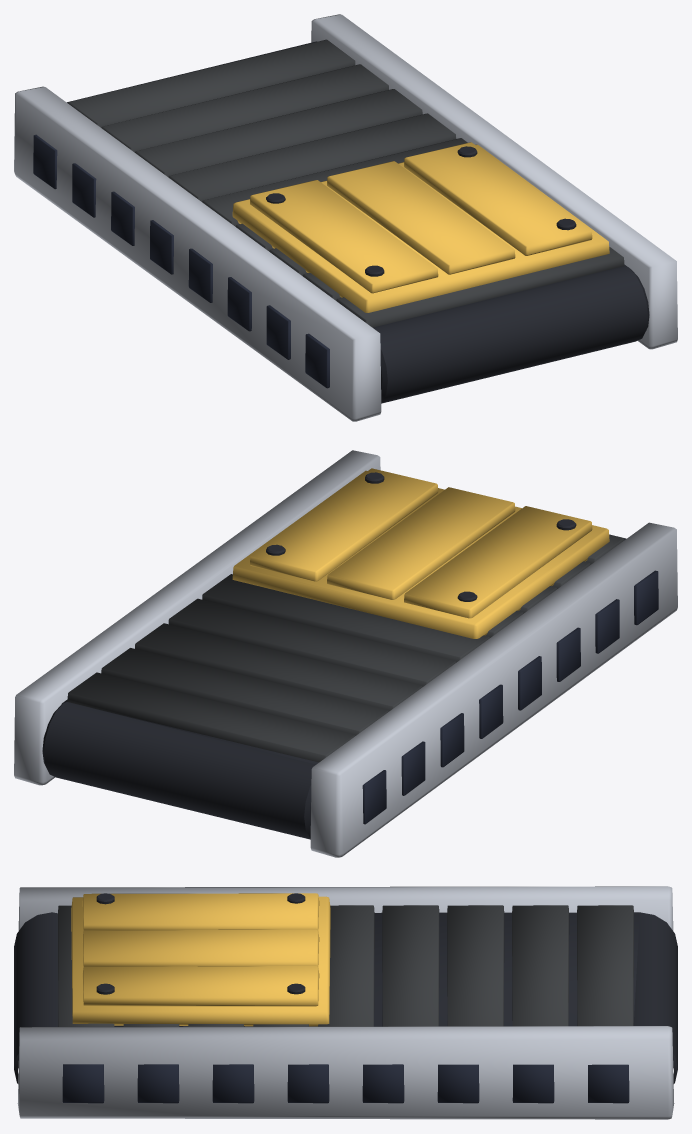
The model's file is 47_conveyor_gold_plate.glb.
3 views of the same model, one above another, from view 1: azimuth 30°, elevation 25°; view 2: azimuth 150°, elevation 25°; view 3: azimuth 270°, elevation 25° (orthographic). The views are drawn at different scales.
Visible parts, largest first — view 1: SideRail_L, EndRoller_1, SideRail_R, GoldRib_1, GoldRib_2, GoldRib_0, GoldPlateBase, BeltSlat_3, BeltSlat_2, BeltSlat_1, BeltSlat_0, BeltSlat_8 (+9 smaller); view 2: SideRail_L, EndRoller_-1, SideRail_R, BeltSlat_0, GoldRib_1, GoldRib_2, GoldRib_0, GoldPlateBase, BeltSlat_3, BeltSlat_2, BeltSlat_1, BeltSlat_4 (+8 smaller); view 3: SideRail_R, SideRail_L, GoldRib_2, GoldRib_1, GoldRib_0, GoldPlateBase, BeltSlat_3, BeltSlat_2, BeltSlat_1, BeltSlat_0, BeltSlat_4, EndRoller_1 (+11 smaller).
Boxes of the visible parts, x1,y1,x2,y2 form: SideRail_L: [14, 86, 381, 421]; EndRoller_1: [373, 265, 649, 403]; SideRail_R: [311, 14, 677, 349]; GoldRib_1: [327, 161, 515, 274]; GoldRib_2: [404, 142, 592, 255]; GoldRib_0: [250, 180, 438, 293]; GoldPlateBase: [232, 144, 609, 312]; BeltSlat_3: [168, 113, 456, 201]; BeltSlat_2: [135, 89, 422, 177]; BeltSlat_1: [101, 64, 388, 152]; BeltSlat_0: [68, 39, 355, 127]; BeltSlat_8: [336, 246, 624, 327]; SideRail_L: [310, 522, 677, 857]; EndRoller_-1: [42, 702, 315, 839]; SideRail_R: [14, 450, 380, 785]; BeltSlat_0: [67, 672, 355, 762]; GoldRib_1: [327, 487, 515, 599]; GoldRib_2: [250, 468, 438, 581]; GoldRib_0: [404, 506, 592, 618]; GoldPlateBase: [232, 470, 609, 638]; BeltSlat_3: [168, 598, 455, 686]; BeltSlat_2: [135, 623, 422, 711]; BeltSlat_1: [101, 648, 388, 735]; BeltSlat_4: [202, 574, 489, 662]; SideRail_R: [17, 1026, 674, 1119]; SideRail_L: [18, 886, 673, 930]; GoldRib_2: [82, 966, 319, 1006]; GoldRib_1: [82, 929, 319, 966]; GoldRib_0: [82, 893, 319, 929]; GoldPlateBase: [71, 896, 330, 1026]; BeltSlat_3: [382, 905, 439, 1026]; BeltSlat_2: [447, 905, 504, 1026]; BeltSlat_1: [512, 905, 569, 1026]; BeltSlat_0: [577, 905, 633, 1026]; BeltSlat_4: [318, 905, 374, 1026]; EndRoller_1: [14, 912, 58, 1083].
Bounding box in the file's own units: 0.972 × 0.297 × 1.74.
